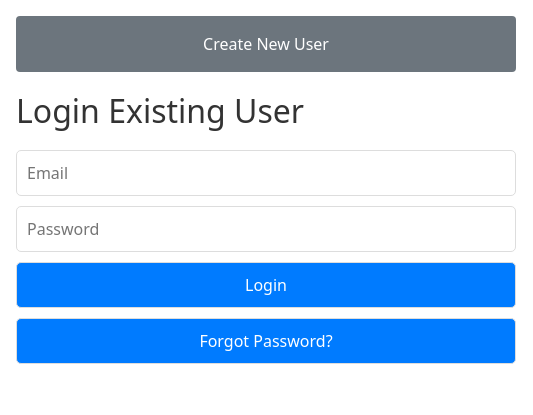
Test: LoginPage › displays error message on login failure
Type "test@example.com" into the field with test id "email-input" at (266, 173), box [16,150,516,196]
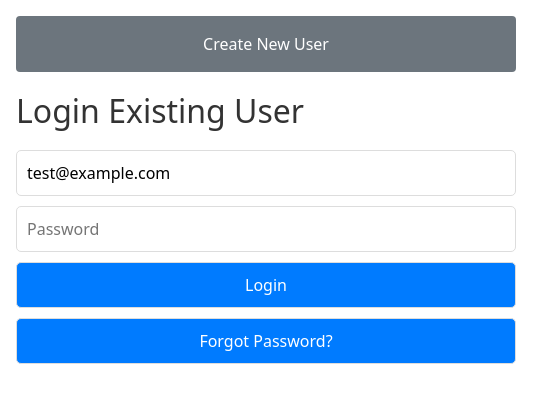
Type "wrongpassword" into the password field with test id "password-input" at (266, 229), box [16,206,516,252]
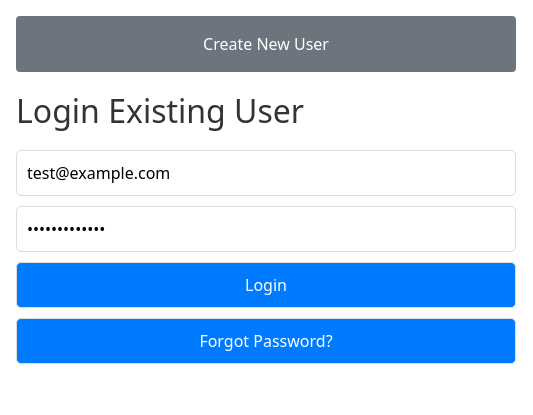
Click the button with test id "login-button" at (266, 285), box [16,262,516,308]
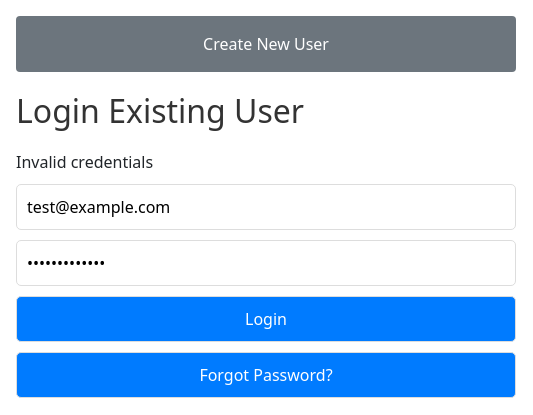
Expected: the text with test id "error-message" reads "Invalid credentials", [16,151,153,173]
